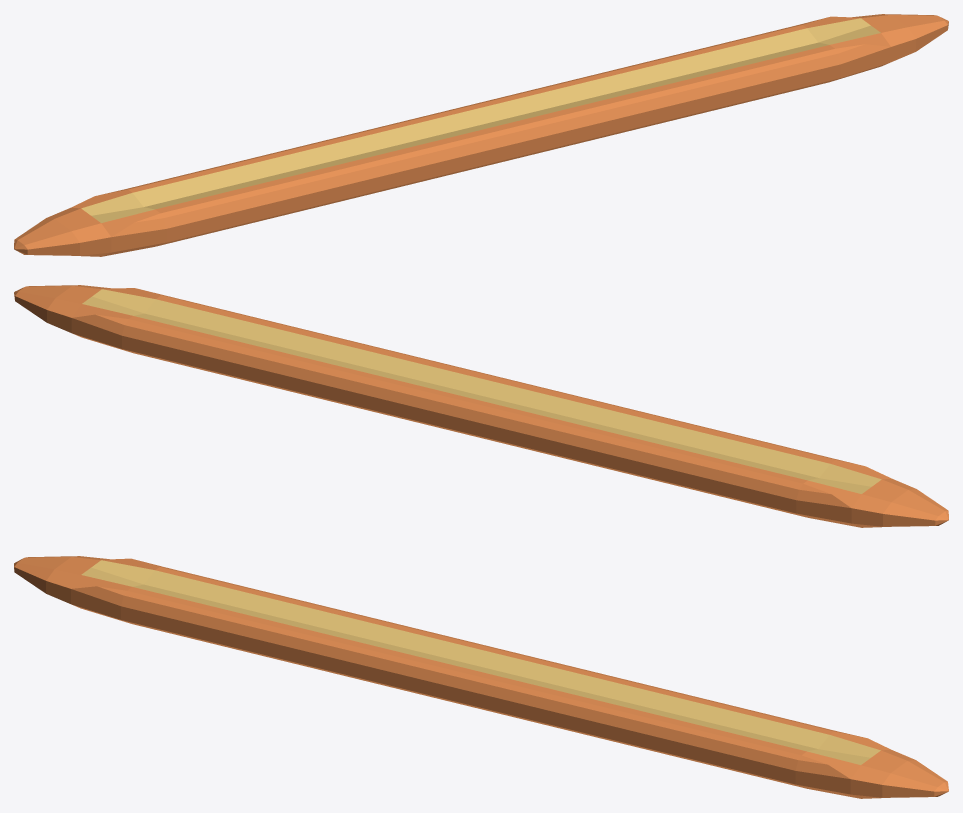
The model's file is Baguette.glb.
3 renders of one model, top to bottom at view 1: azimuth 30°, elevation 25°; view 2: azimuth 150°, elevation 25°; view 3: azimuth 330°, elevation 25°, orthographic.
Parts seen in each view (by area): view 1: Cube; view 2: Cube; view 3: Cube.
Boxes of the visible parts, x1,y1,x2,y2 form: Cube: [14, 14, 948, 256]; Cube: [14, 285, 948, 527]; Cube: [14, 556, 948, 798].
Bounding box in the file's own units: 0.5926 × 0.0226 × 0.05.
